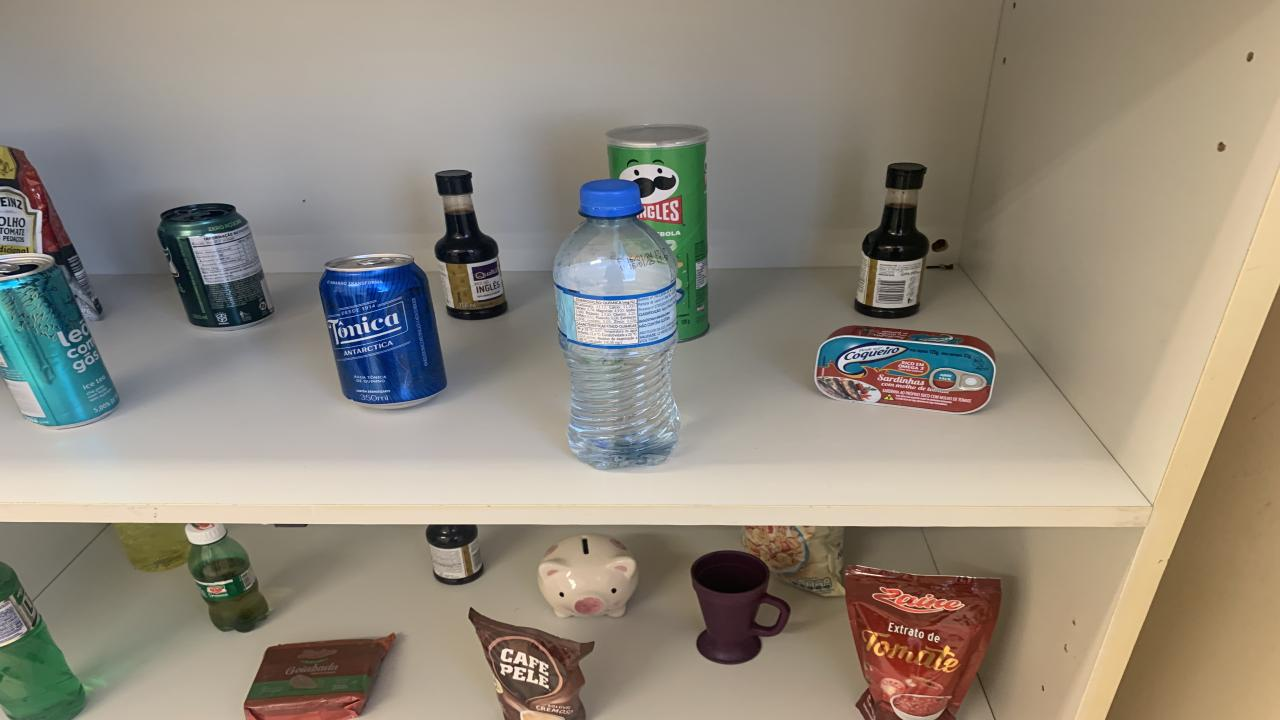Coffee-Pantry_Items: (470, 609, 592, 720)
Detergent-Cleanup_Items: (0, 562, 85, 720), (115, 523, 190, 572)
English_Sauce-Pantry_Items: (855, 163, 930, 319), (435, 171, 508, 321), (425, 525, 482, 585)
Flakes-Snacks: (742, 525, 845, 596)
Guarana-Drinks: (185, 523, 268, 632)
Guarana_Can-Drinks: (158, 204, 272, 330)
Guava-Snacks: (245, 634, 395, 720)
Pig_Safe-Miscellaneous: (538, 534, 638, 617)
Pringles-Snacks: (608, 124, 710, 341)
Tea-Drinks: (0, 255, 118, 428)
Tomato_Sauce-Pantry_Items: (845, 566, 1000, 720), (0, 146, 102, 321)
Tonic-Drinks: (320, 255, 448, 409)
Tuna_Can-Pantry_Items: (815, 326, 995, 414)
Water_Bottle-Drinks: (552, 178, 680, 469)
